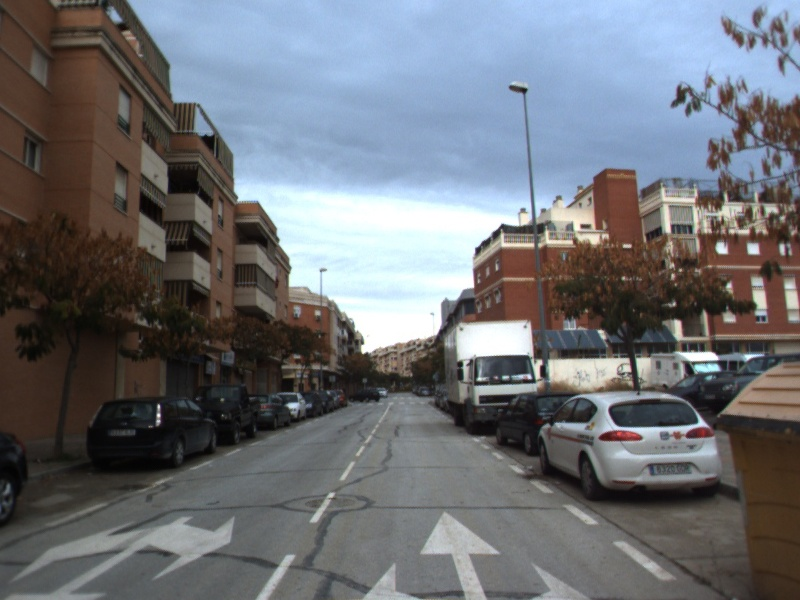STRAIGHT_LEFT_RIGHT: (356, 505, 596, 600)
